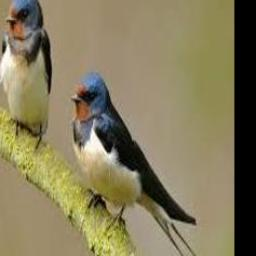Swallow: (70, 73, 219, 256), (0, 0, 53, 140)
